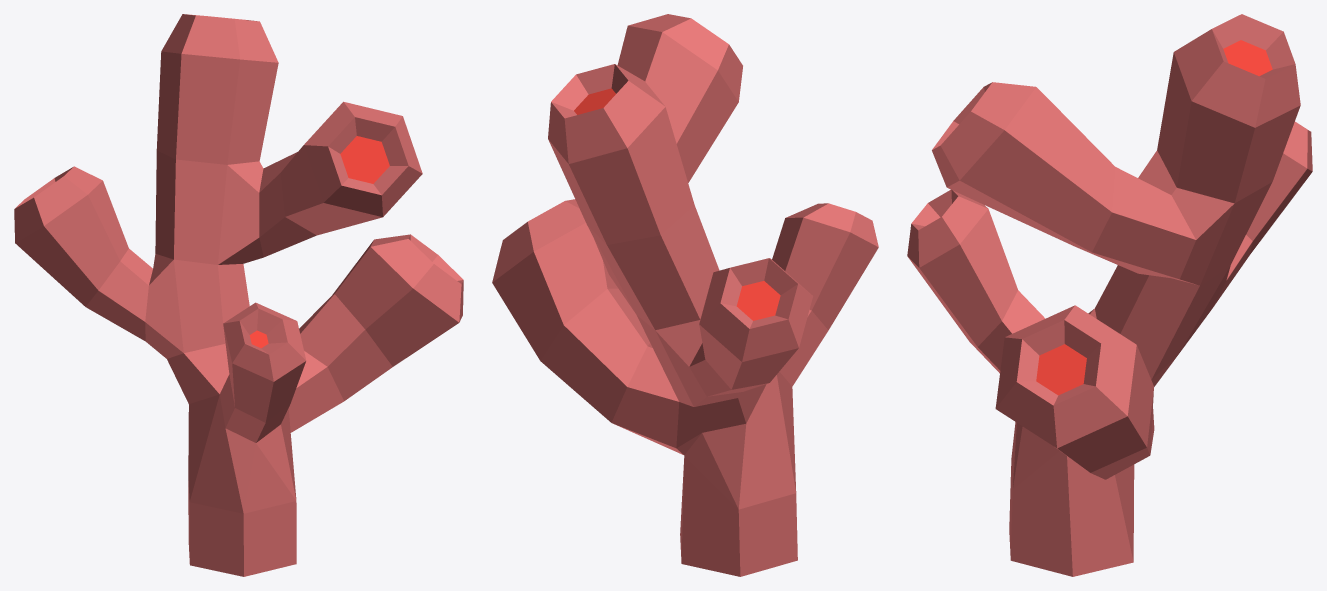
Rendered from Coral_018.glb.
The picture shows the model from 3 angles, left to right: view 1: azimuth 30°, elevation 25°; view 2: azimuth 150°, elevation 25°; view 3: azimuth 270°, elevation 25°; orthographic projection. The views are drawn at different scales.
Parts seen in each view (by area): view 1: Coral_018; view 2: Coral_018; view 3: Coral_018.
Part boxes in pixels (x1=…): Coral_018: x1=14, y1=14, x2=463, y2=576; Coral_018: x1=492, y1=14, x2=878, y2=576; Coral_018: x1=907, y1=14, x2=1312, y2=576.
Size of the model in its own units: 0.2598 by 0.3337 by 0.2232.
Materials: 1 (1 with a texture image).
